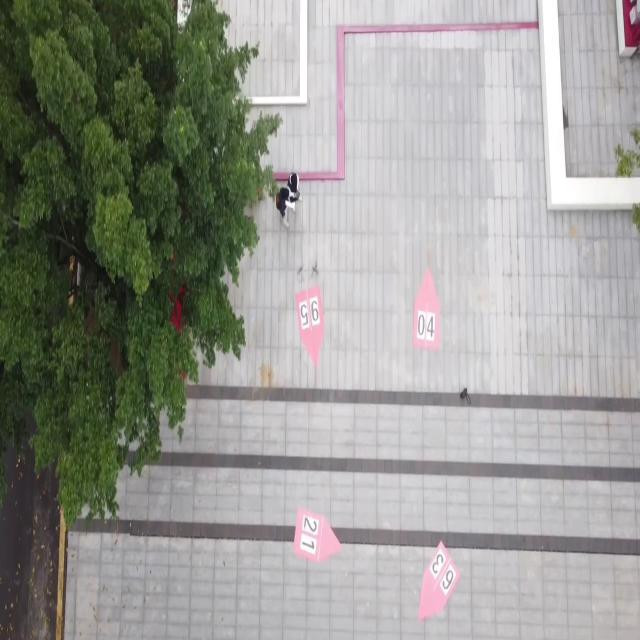-sign-: (418, 539, 462, 621), (291, 506, 341, 563), (295, 281, 325, 368), (412, 266, 442, 352)
